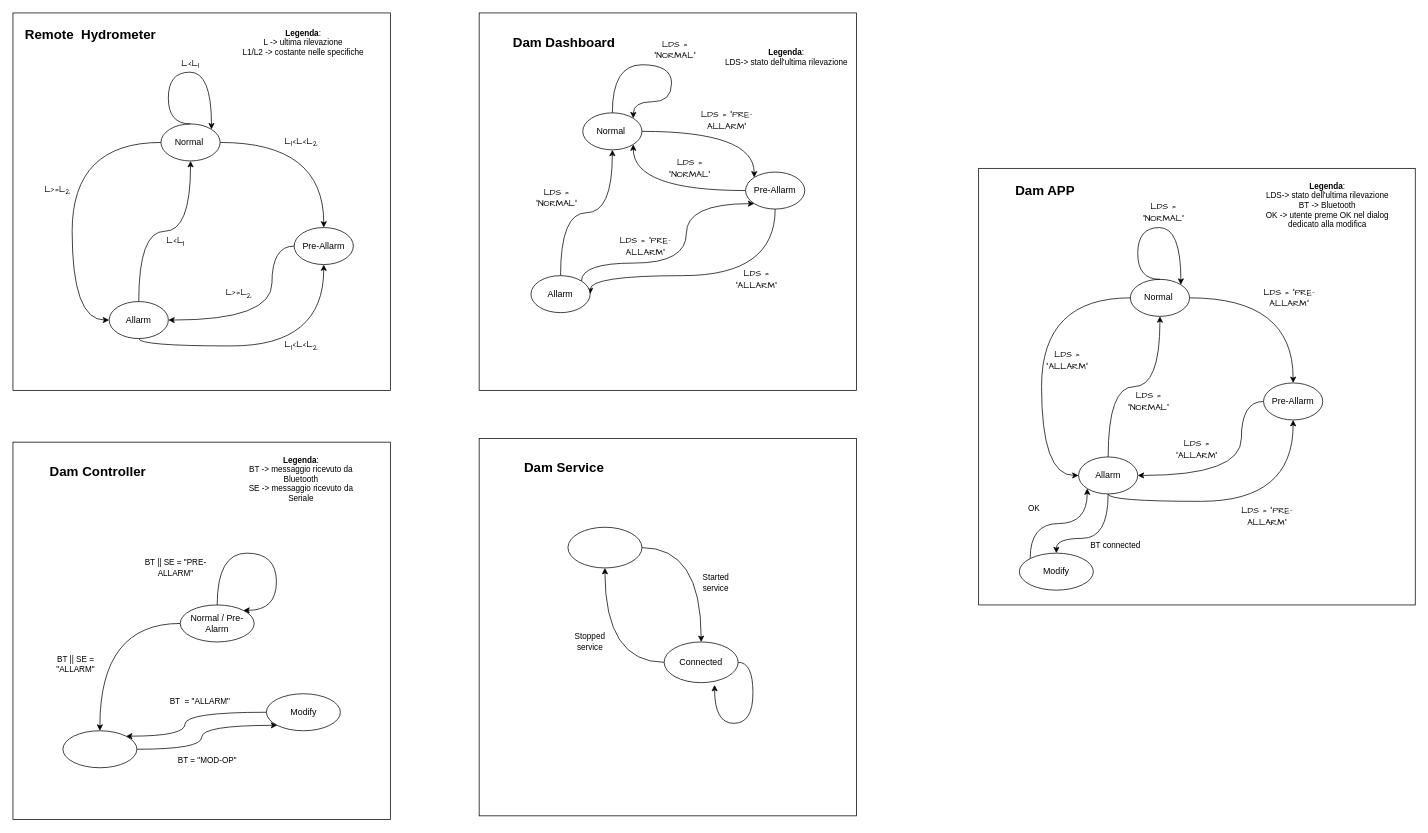
This 1428x833 diagram has some shape labels left out. Each missing label, with the centre of its shape:
Alarm: pixel 99 749
Not connected: pixel 604 547
